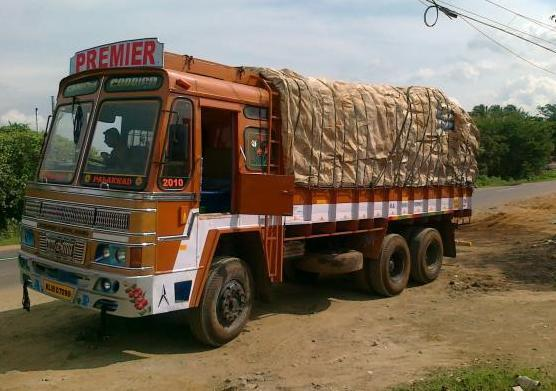truck: (27, 39, 481, 316)
